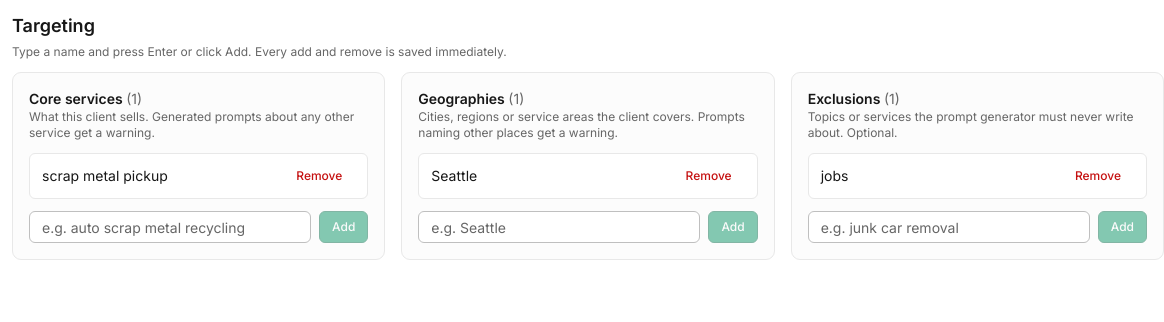
Test: ClientTargetingSection › adds an item when Enter is pressed
The width and height of the screenshot is (1164, 322).
Step 1. Type "Tacoma" into the field named "New geography" → coordinates (559, 227), box [418,211,700,243]
Then press Enter
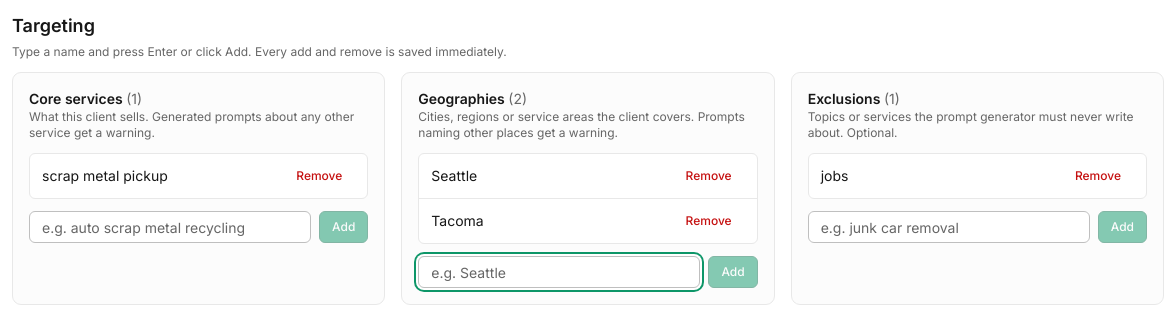
Now the text "Tacoma" is shown, box [431,211,484,231]
